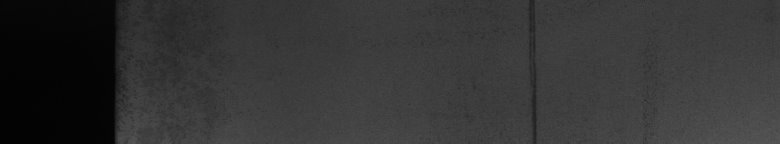hd: (525, 4, 539, 136)
